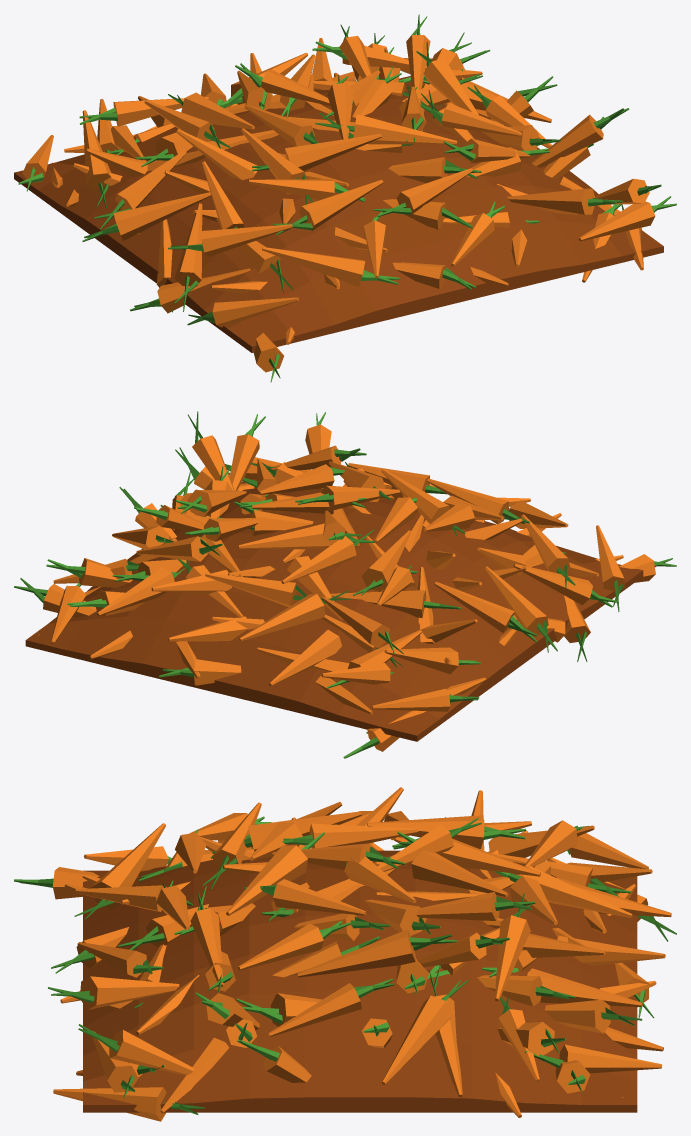
The model's file is Pile_Carrot.fbx.
3 renders of one model, top to bottom at view 1: azimuth 30°, elevation 25°; view 2: azimuth 150°, elevation 25°; view 3: azimuth 270°, elevation 25°, orthographic. The views are drawn at different scales.
Parts seen in each view (by area): view 1: Pile_Carrot; view 2: Pile_Carrot; view 3: Pile_Carrot.
Boxes of the visible parts, <box> form: Pile_Carrot: <box>14,14,676,382</box>; Pile_Carrot: <box>14,411,676,758</box>; Pile_Carrot: <box>14,787,676,1121</box>.
Size of the model in its own units: 1.18 by 0.3667 by 1.2.
